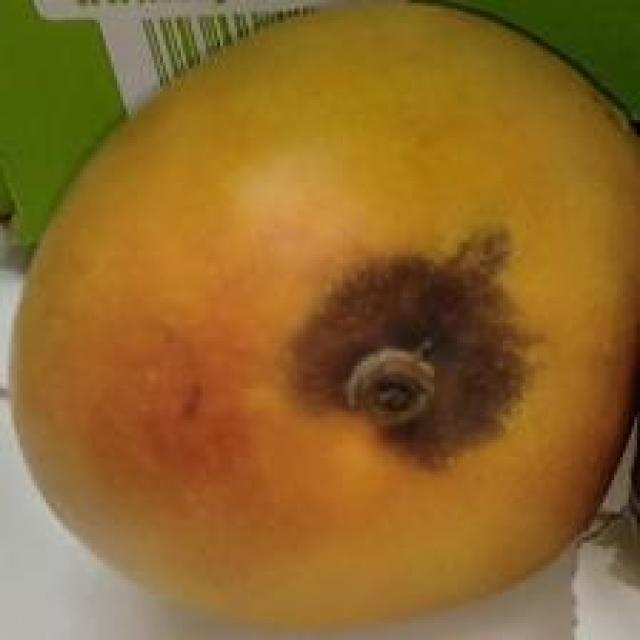Bad_Mango: (16, 11, 638, 624)
